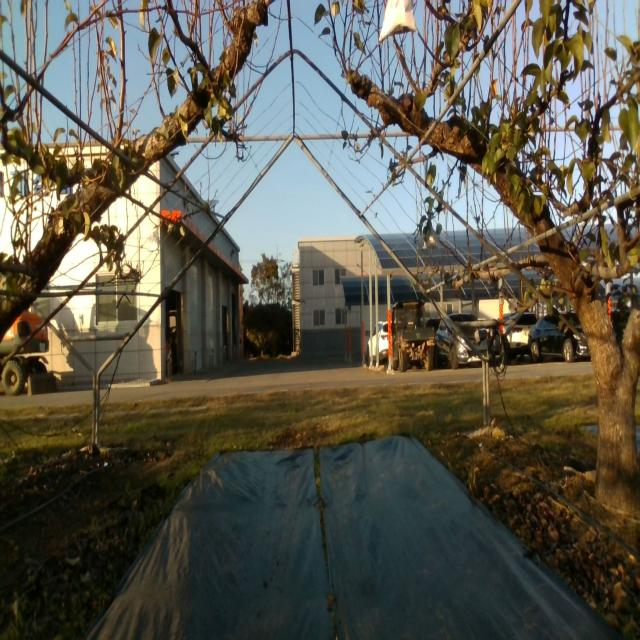pearbags: (378, 0, 417, 45), (422, 227, 441, 251), (148, 231, 160, 253)
